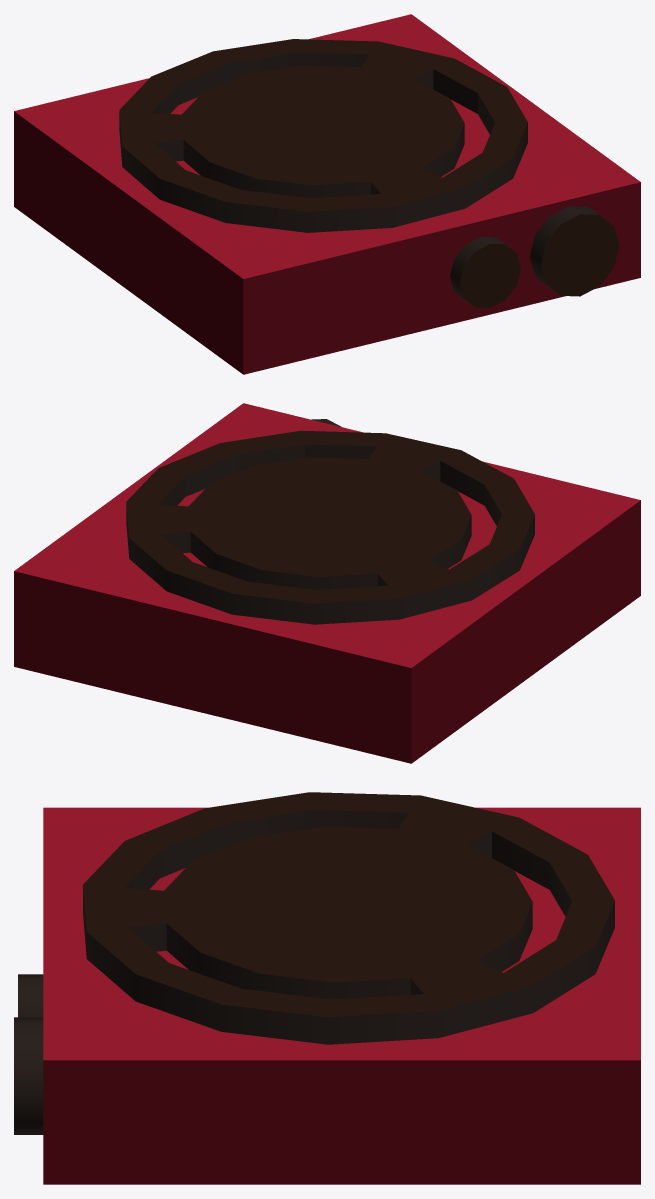
File: PRMC_Fogon.FBX
The picture shows the model from 3 angles, top to bottom: view 1: azimuth 30°, elevation 25°; view 2: azimuth 150°, elevation 25°; view 3: azimuth 270°, elevation 25°; orthographic projection. The views are drawn at different scales.
Parts seen in each view (by area): view 1: PRMC_Fogon; view 2: PRMC_Fogon; view 3: PRMC_Fogon.
Boxes of the visible parts, bbox=[...] form: PRMC_Fogon: bbox=[14, 14, 640, 374]; PRMC_Fogon: bbox=[14, 403, 640, 763]; PRMC_Fogon: bbox=[14, 792, 640, 1184].
Bounding box in the file's own units: 1 × 0.2804 × 1.05.
